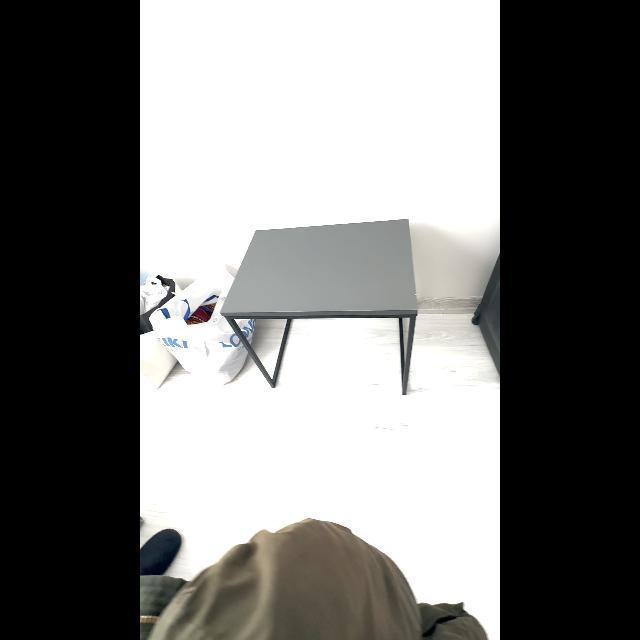coffee table: (219, 214, 423, 402)
